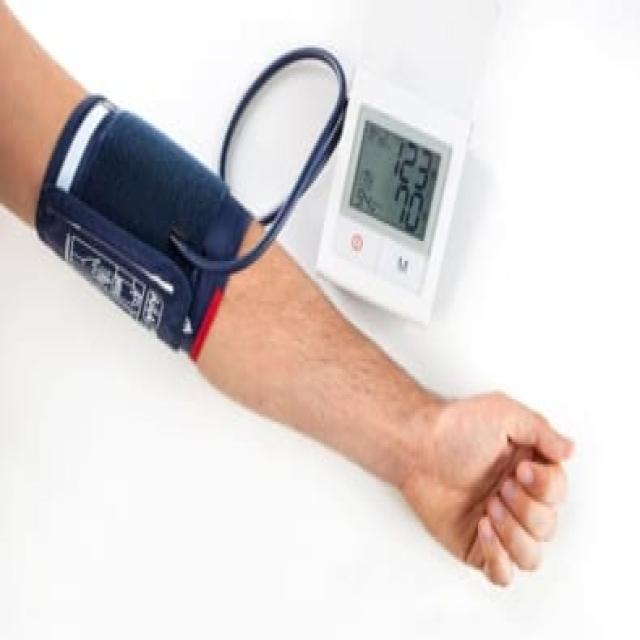dia: (383, 185, 431, 239)
pul: (342, 184, 382, 222)
ssd: (345, 120, 446, 241)
sys: (384, 135, 441, 195)
